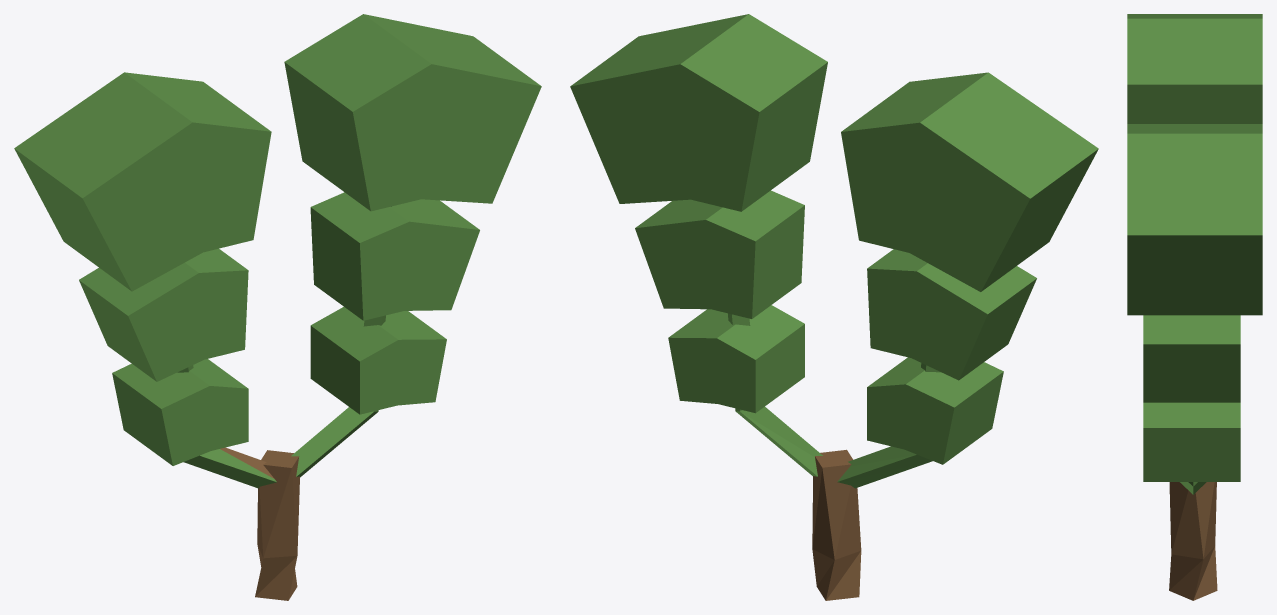
Rendered from tree3d-003.glb.
3 renders of one model, left to right at view 1: azimuth 30°, elevation 25°; view 2: azimuth 150°, elevation 25°; view 3: azimuth 270°, elevation 25°, orthographic.
Visible parts, largest first — view 1: tree3d-003; view 2: tree3d-003; view 3: tree3d-003.
Boxes of the visible parts, x1,y1,x2,y2 form: tree3d-003: [14, 14, 541, 600]; tree3d-003: [570, 14, 1098, 600]; tree3d-003: [1127, 14, 1262, 600].
Size of the model in its own units: 0.9199 by 1 by 0.2374.
